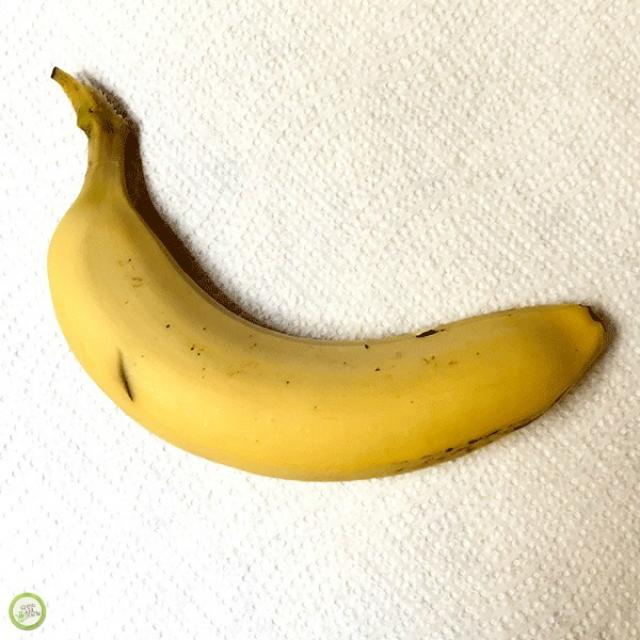Banana: (37, 75, 613, 482)
